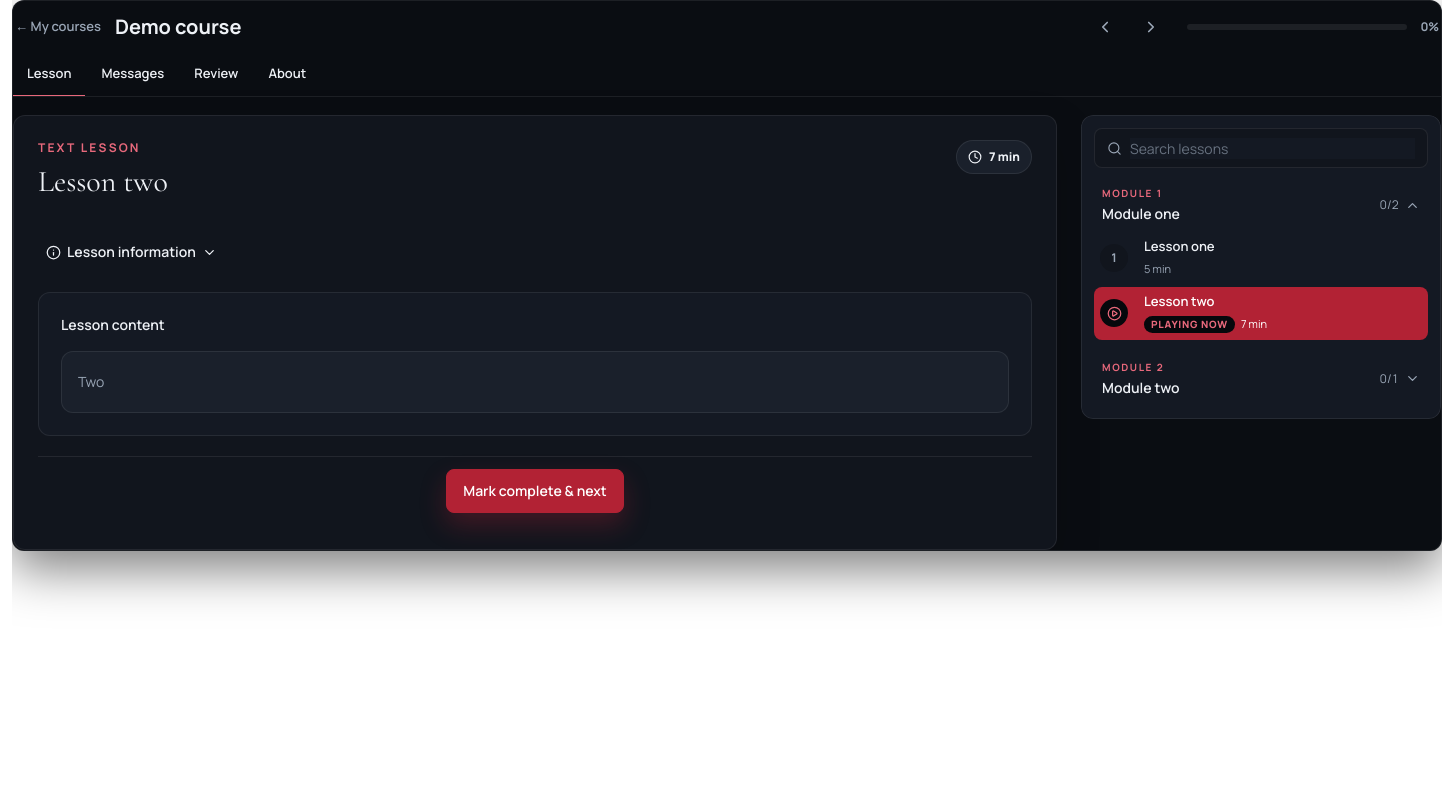
Scenario: Informacoes da aula sob o player › abre e fecha com aria-expanded e mostra tipo, duracao e modulo
Check: the text "Text lesson" is shown once, box [38,139,141,156]
Click the button "Lesson information".
click(131, 252)  # box [38,230,225,274]
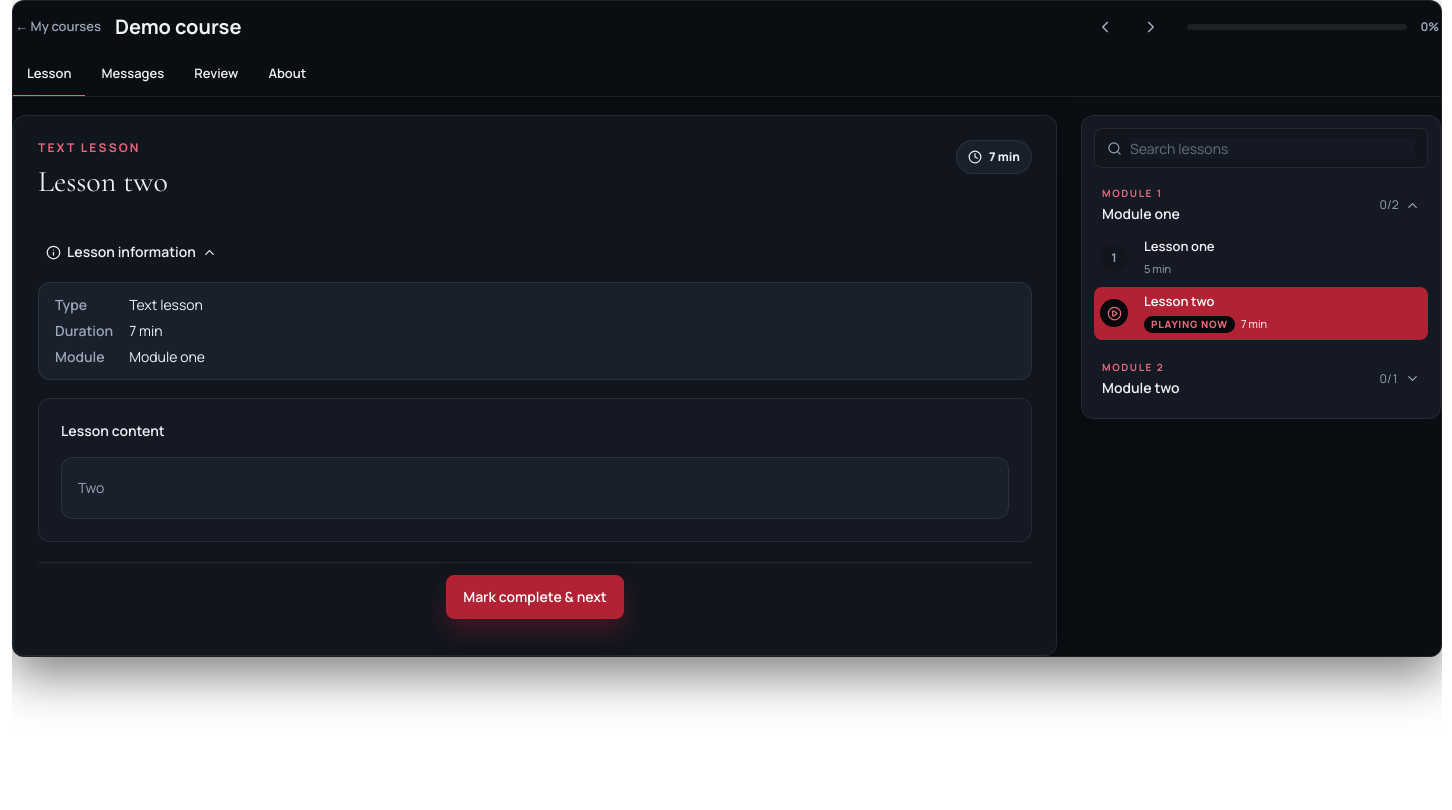
Check: the button "Lesson information" is expanded
Check: the element with id "member-lesson-info" is shown, box [38,282,1032,380]
Check: the text "Text lesson" next to "Type" is shown, box [129,295,203,314]
Click the button "Lesson information".
click(131, 252)  # box [38,230,225,274]
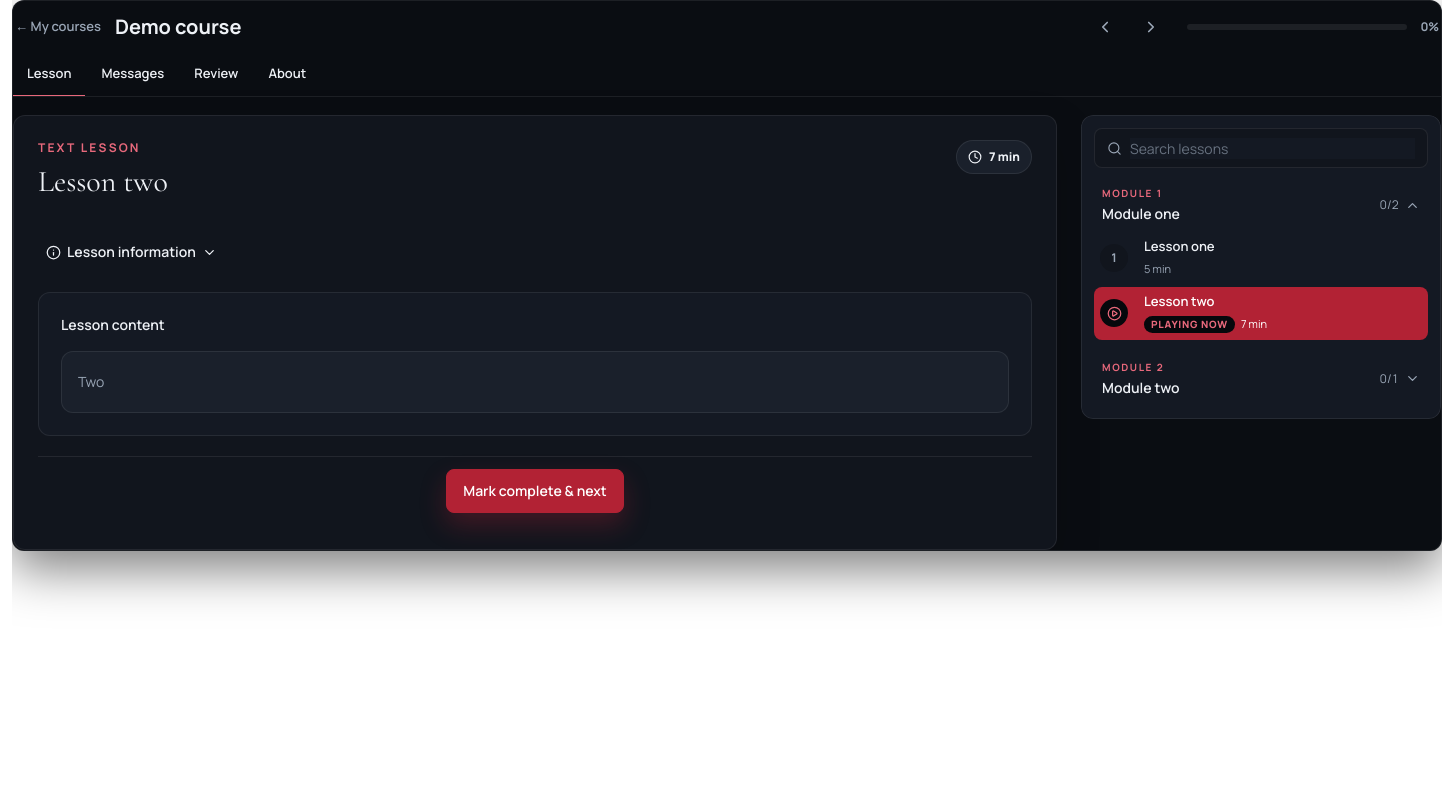
Check: the button "Lesson information" is collapsed, box [38,230,225,274]
Check: the element with id "member-lesson-info" is gone
